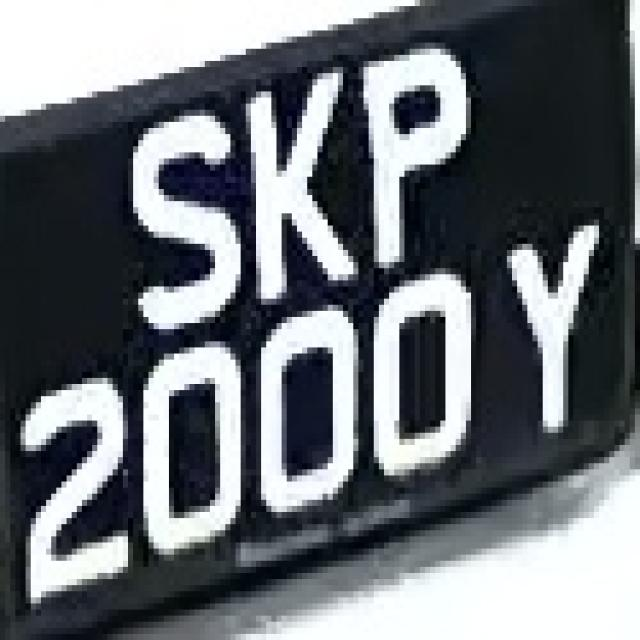0: (143, 298, 256, 554), (364, 280, 486, 512), (261, 286, 359, 542)
2: (10, 378, 144, 616)
K: (241, 42, 348, 298)
P: (364, 30, 476, 250)
S: (117, 104, 235, 329)
Y: (496, 213, 614, 445)
